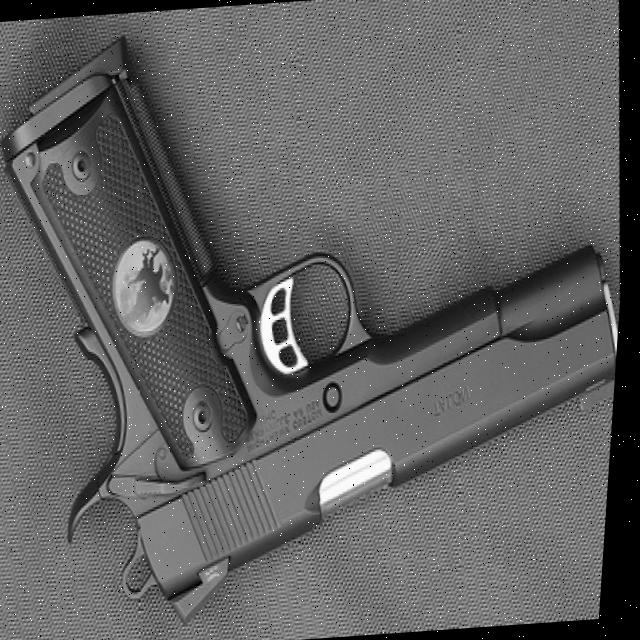pistol: (0, 1, 640, 635)
